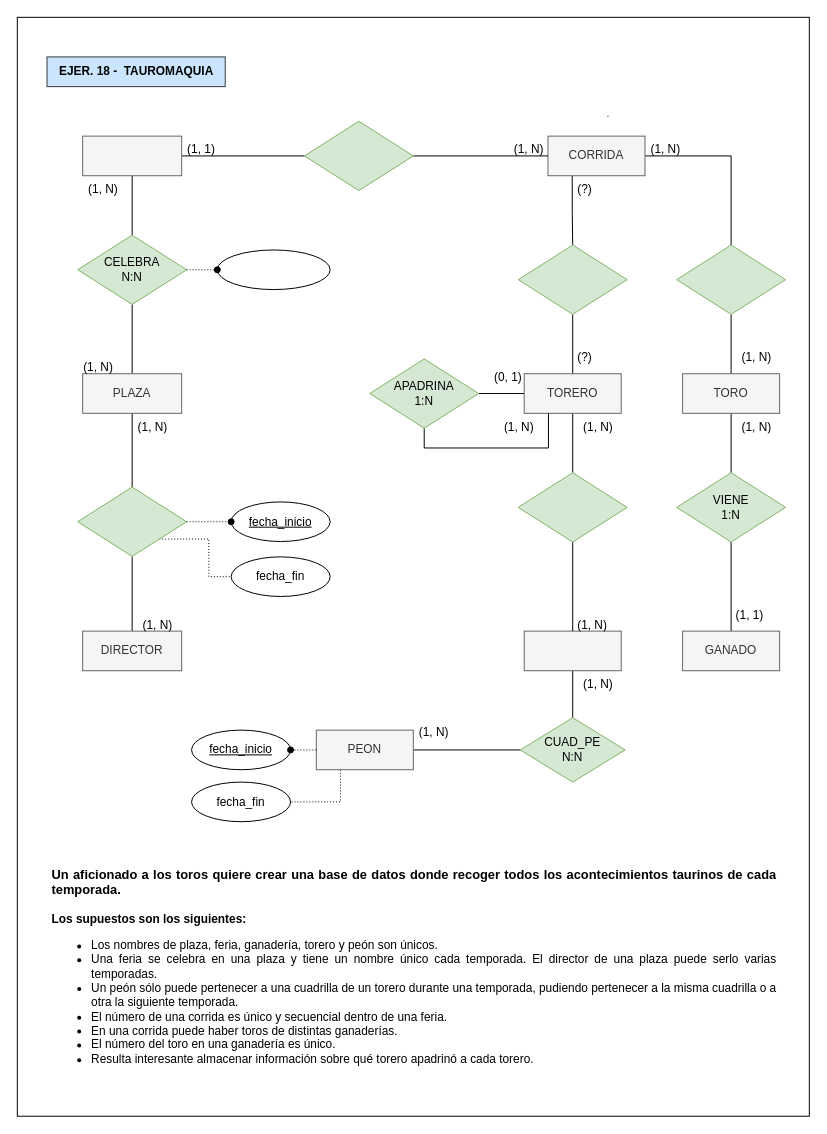
Some shapes in this 827 by 1134 pixel diagram are drawn without their labels. The centre of each missing label's shape, as x and y in pixels:
"CUADRILLA" belongs at (572,650).
"FERIA" belongs at (132,155).
"HAY 1:N" belongs at (358,155).
"nombre_temporada" belongs at (273,269).
"PAR ?" belongs at (572,279).
"PERTENECE N:N" belongs at (132,521).
"SALE N:N" belongs at (731,279).
"TIENE N:N" belongs at (572,507).
